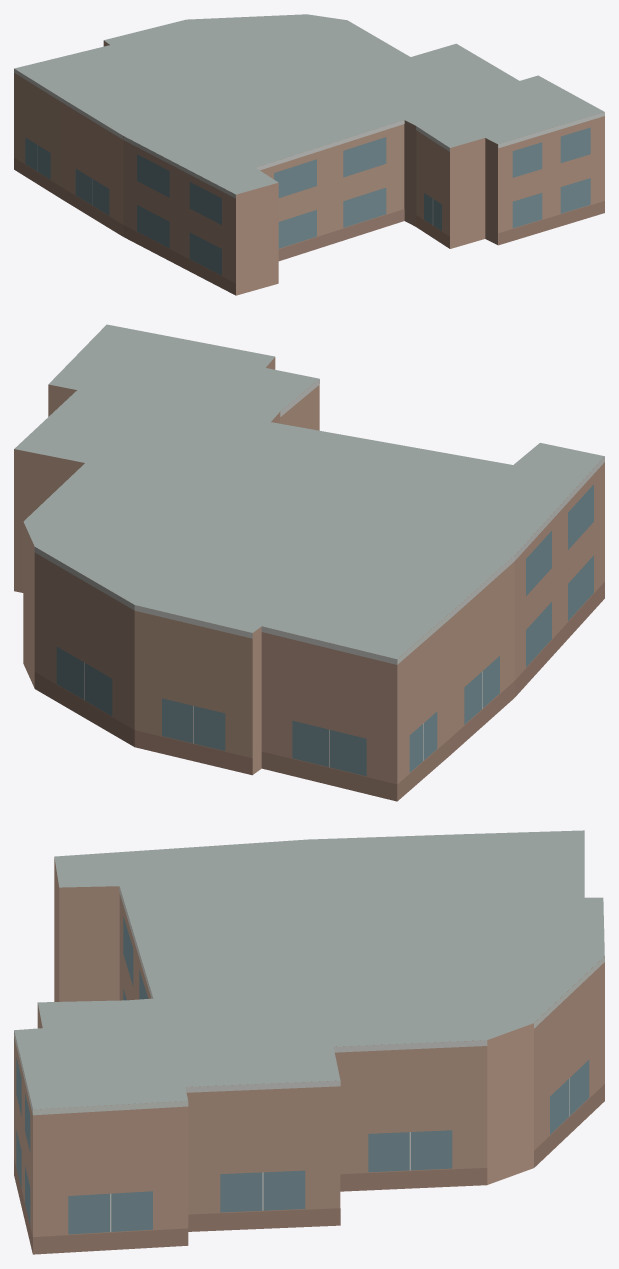
Rendered from survey-upis-32469267.glb.
The picture shows the model from 3 angles, top to bottom: view 1: azimuth 30°, elevation 25°; view 2: azimuth 150°, elevation 25°; view 3: azimuth 270°, elevation 25°; orthographic projection. The views are drawn at different scales.
Visible parts, largest first — view 1: survey-upis-32469267.tmp; view 2: survey-upis-32469267.tmp; view 3: survey-upis-32469267.tmp.
Part boxes in pixels (x1,y1,x2,y2): survey-upis-32469267.tmp: [14, 14, 604, 295]; survey-upis-32469267.tmp: [14, 324, 604, 801]; survey-upis-32469267.tmp: [14, 830, 604, 1254].
Bounding box in the file's own units: 25.2 × 6.1 × 22.54.
